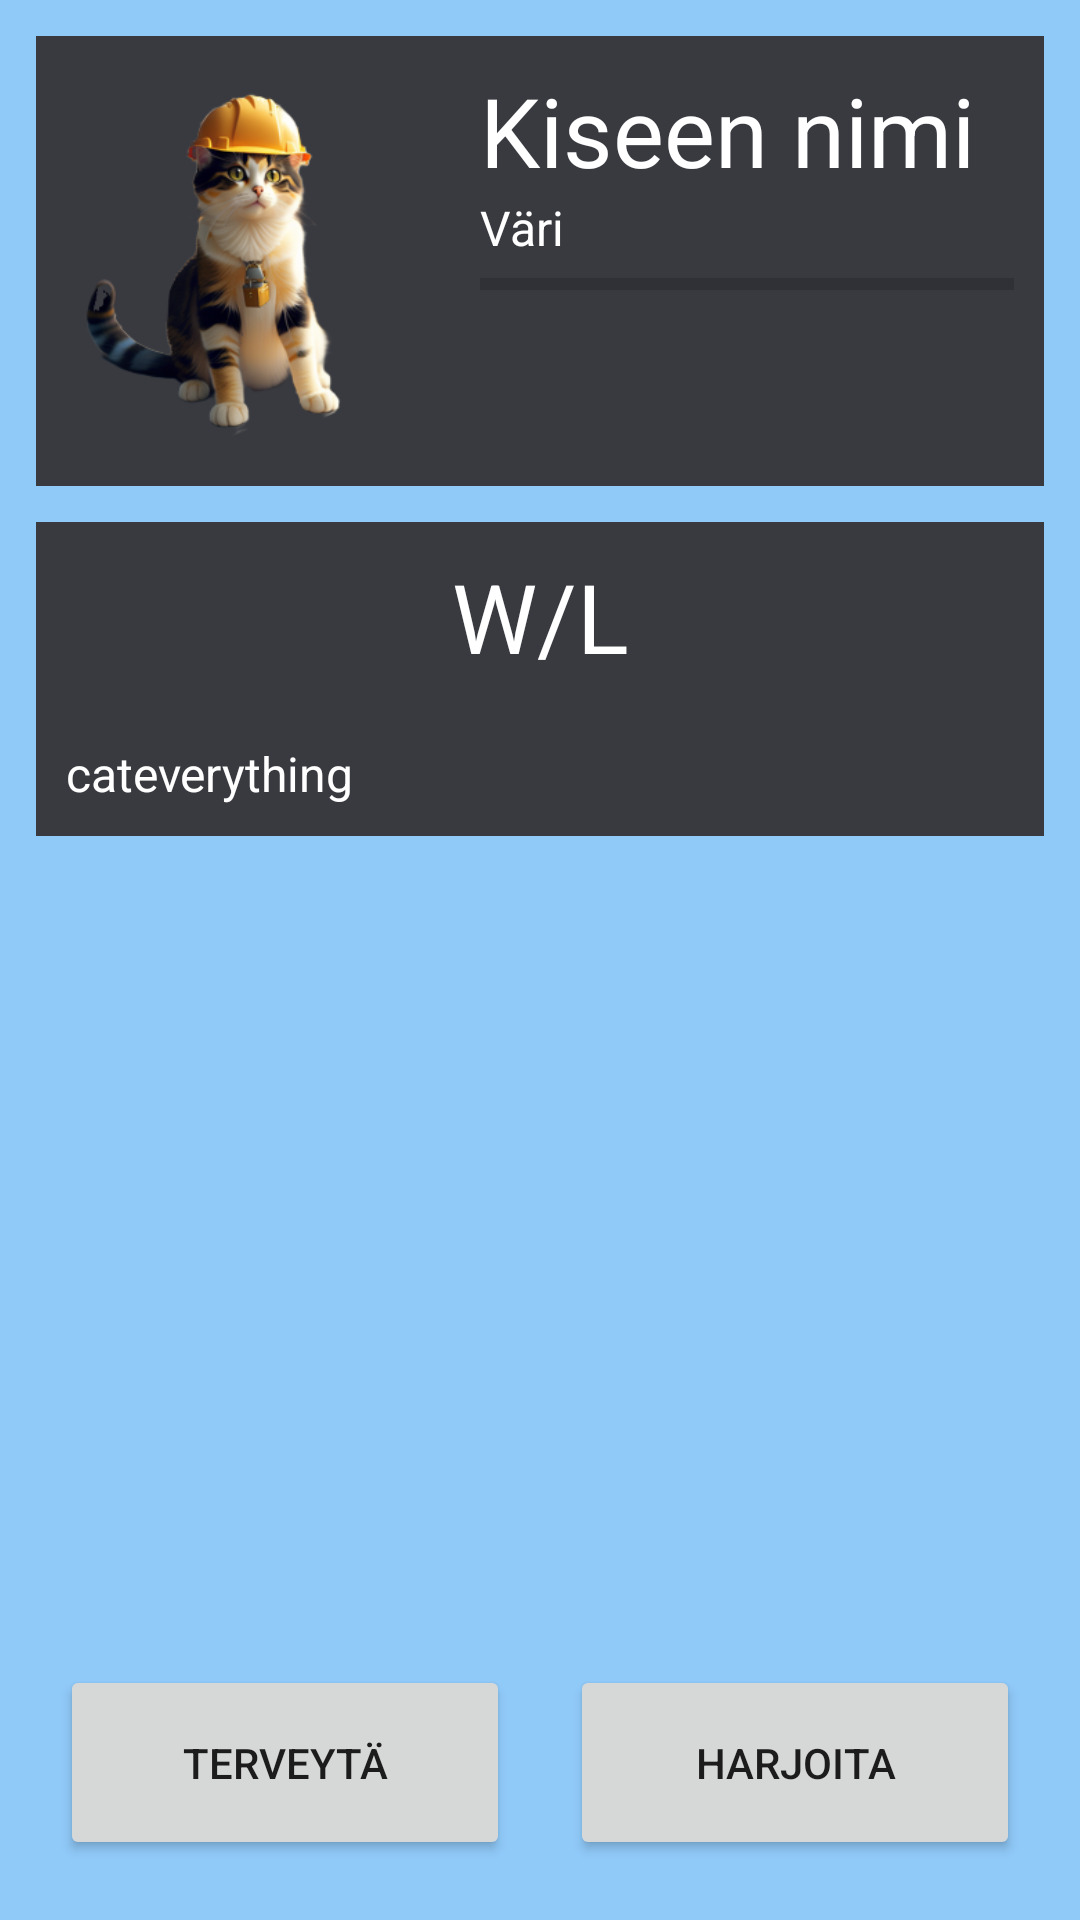

Where to tap for icons on this 1080px x 1920px app screen, as (x=x, y=y):
raksakissa nobg: (x=213, y=263)
